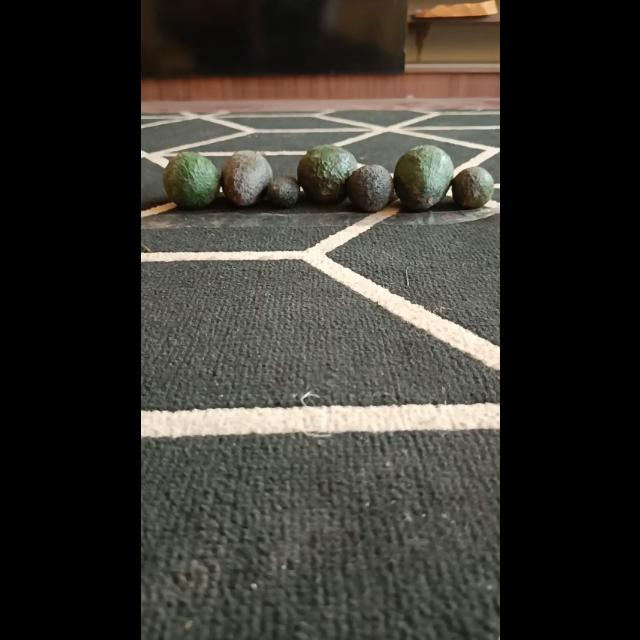Primera: (392, 144, 453, 210), (296, 144, 356, 204), (162, 150, 220, 210), (219, 150, 273, 207)
Segunda: (344, 165, 392, 213), (449, 166, 493, 210)
Tercera: (265, 174, 299, 208)
